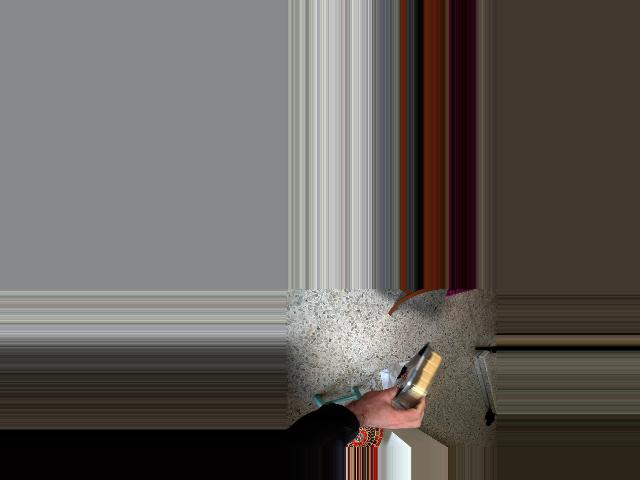cheese: (375, 339, 456, 441)
